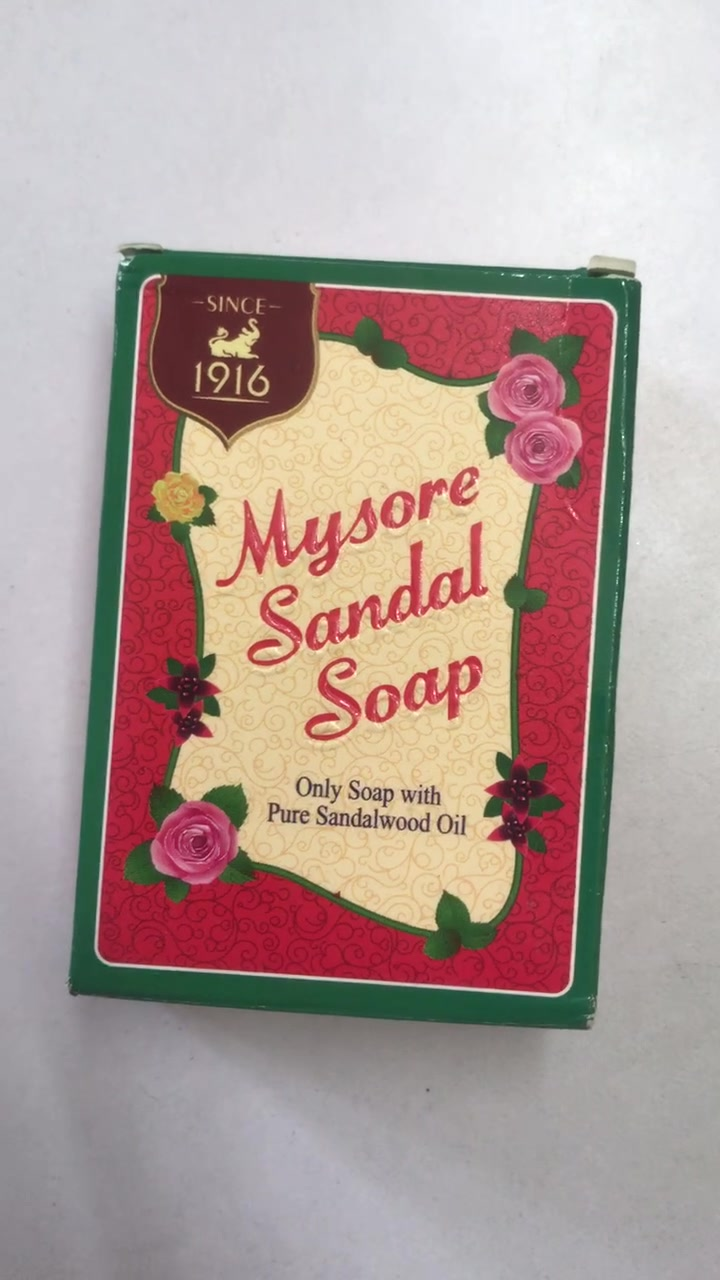mysore sandal soap: (69, 242, 633, 1035)
